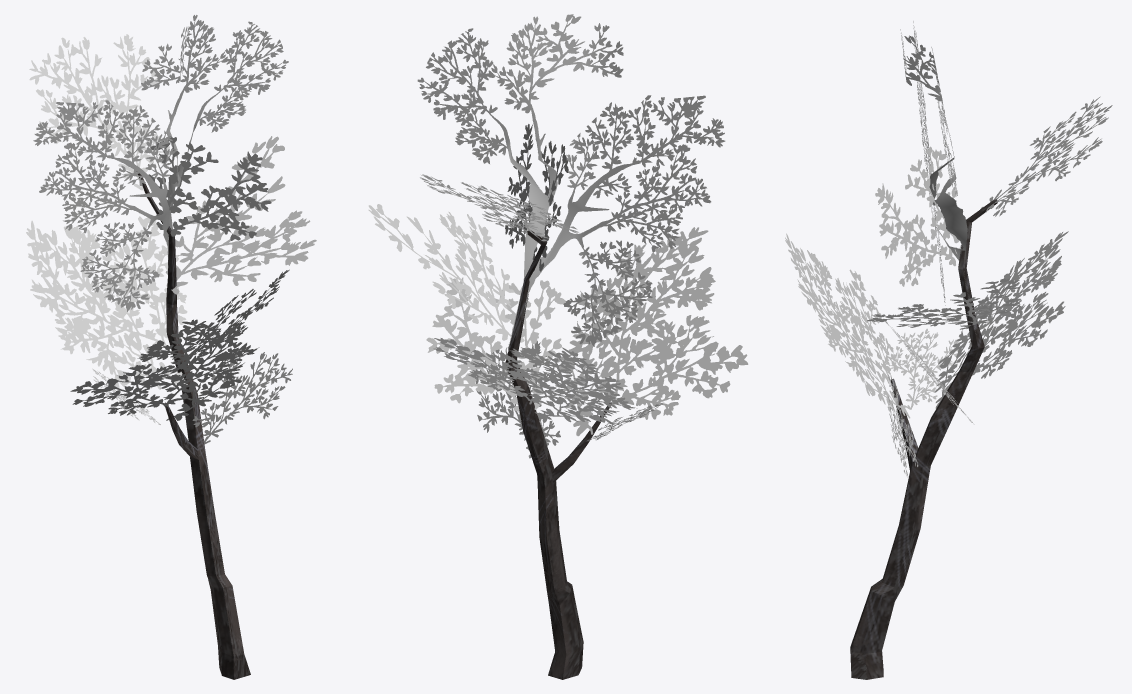
Rendered from CI_Tree_YoungOak_MOD_v3.fbx.
The picture shows the model from 3 angles, left to right: view 1: azimuth 30°, elevation 25°; view 2: azimuth 150°, elevation 25°; view 3: azimuth 270°, elevation 25°; orthographic projection. The views are drawn at different scales.
Visible parts, largest first — view 1: Tree_LiveOak_Branch_01_002Backup03, Tree_LiveOak_Branch_07_003Backup03, Tree_YoungOak001Backup03, Tree_LiveOak_Branch_07_004Backup03, Tree_LiveOak_Branch_05_004Backup03, Tree_LiveOak_Branch_06_002Backup03, Tree_LiveOak_Branch_08_003Backup03, Tree_LiveOak_Branch_05_006Backup03, Tree_LiveOak_Branch_08_004Backup03; view 2: Tree_LiveOak_Branch_01_002Backup03, Tree_LiveOak_Branch_07_004Backup03, Tree_YoungOak001Backup03, Tree_LiveOak_Branch_07_003Backup03, Tree_LiveOak_Branch_08_004Backup03, Tree_LiveOak_Branch_06_002Backup03, Tree_LiveOak_Branch_08_003Backup03, Tree_LiveOak_Branch_05_004Backup03, Tree_LiveOak_Branch_05_006Backup03; view 3: Tree_YoungOak001Backup03, Tree_LiveOak_Branch_07_004Backup03, Tree_LiveOak_Branch_07_003Backup03, Tree_LiveOak_Branch_01_002Backup03, Tree_LiveOak_Branch_08_003Backup03, Tree_LiveOak_Branch_05_004Backup03, Tree_LiveOak_Branch_06_002Backup03, Tree_LiveOak_Branch_05_005Backup03, Tree_LiveOak_Branch_05_006Backup03.
Boxes of the visible parts, x1=… form: Tree_LiveOak_Branch_01_002Backup03: x1=33, y1=15, x2=288, y2=311; Tree_LiveOak_Branch_07_003Backup03: x1=26, y1=215, x2=187, y2=389; Tree_YoungOak001Backup03: x1=136, y1=171, x2=250, y2=679; Tree_LiveOak_Branch_07_004Backup03: x1=70, y1=319, x2=259, y2=420; Tree_LiveOak_Branch_05_004Backup03: x1=29, y1=34, x2=170, y2=190; Tree_LiveOak_Branch_06_002Backup03: x1=165, y1=136, x2=316, y2=294; Tree_LiveOak_Branch_08_003Backup03: x1=148, y1=136, x2=271, y2=240; Tree_LiveOak_Branch_05_006Backup03: x1=192, y1=348, x2=292, y2=443; Tree_LiveOak_Branch_08_004Backup03: x1=181, y1=269, x2=289, y2=369; Tree_LiveOak_Branch_01_002Backup03: x1=417, y1=14, x2=725, y2=347; Tree_LiveOak_Branch_07_004Backup03: x1=554, y1=227, x2=748, y2=436; Tree_YoungOak001Backup03: x1=505, y1=230, x2=611, y2=679; Tree_LiveOak_Branch_07_003Backup03: x1=433, y1=338, x2=637, y2=424; Tree_LiveOak_Branch_08_004Backup03: x1=426, y1=277, x2=565, y2=414; Tree_LiveOak_Branch_06_002Backup03: x1=368, y1=204, x2=524, y2=342; Tree_LiveOak_Branch_08_003Backup03: x1=505, y1=124, x2=568, y2=271; Tree_LiveOak_Branch_05_004Backup03: x1=420, y1=174, x2=579, y2=241; Tree_LiveOak_Branch_05_006Backup03: x1=473, y1=340, x2=560, y2=458; Tree_YoungOak001Backup03: x1=850, y1=199, x2=997, y2=679; Tree_LiveOak_Branch_07_004Backup03: x1=785, y1=233, x2=910, y2=418; Tree_LiveOak_Branch_07_003Backup03: x1=934, y1=231, x2=1068, y2=408; Tree_LiveOak_Branch_01_002Backup03: x1=900, y1=21, x2=967, y2=305; Tree_LiveOak_Branch_08_003Backup03: x1=875, y1=146, x2=961, y2=286; Tree_LiveOak_Branch_05_004Backup03: x1=980, y1=96, x2=1112, y2=216; Tree_LiveOak_Branch_06_002Backup03: x1=867, y1=278, x2=1020, y2=329; Tree_LiveOak_Branch_05_005Backup03: x1=885, y1=328, x2=959, y2=409; Tree_LiveOak_Branch_05_006Backup03: x1=887, y1=374, x2=918, y2=477.
Bounding box in the file's own units: 75.77 × 152 × 73.73.
